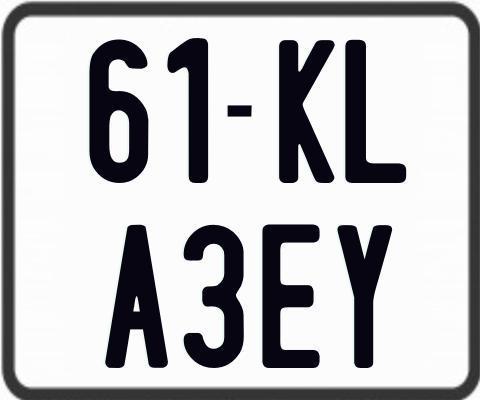1: (166, 37, 207, 186)
3: (184, 224, 244, 373)
6: (86, 38, 149, 185)
A: (105, 222, 170, 370)
E: (260, 221, 323, 371)
K: (277, 39, 336, 185)
L: (345, 39, 410, 187)
Y: (336, 224, 393, 369)
